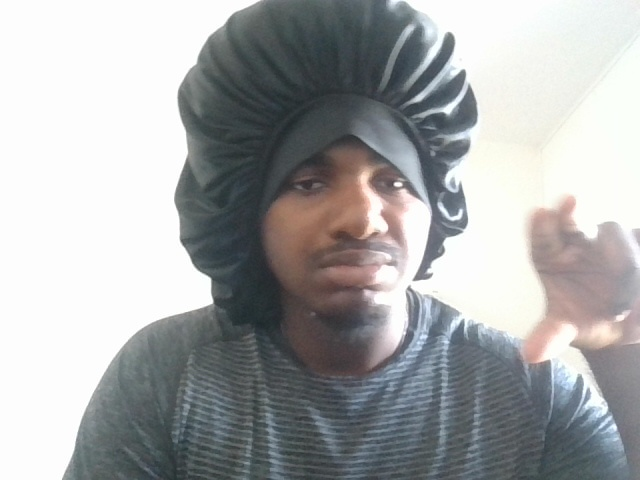No: (501, 176, 640, 375)
